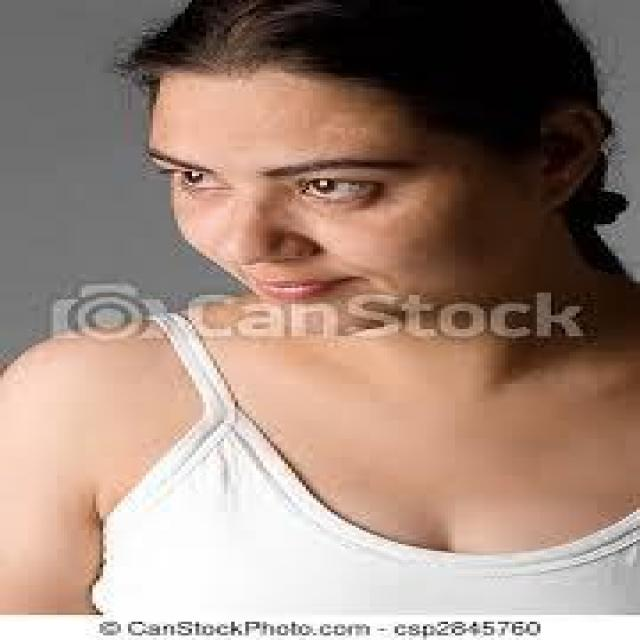person: (7, 0, 637, 601)
